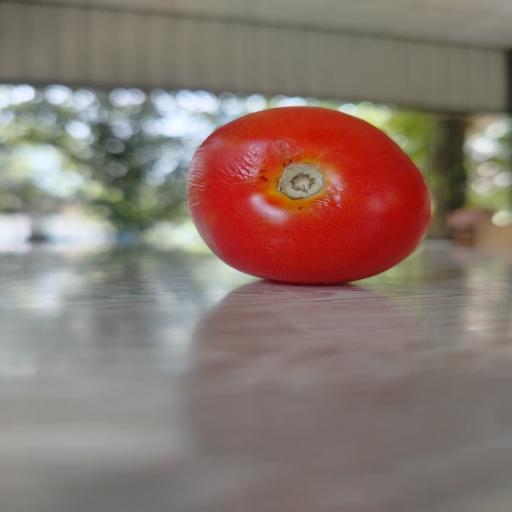spoiled: (187, 107, 430, 284)
